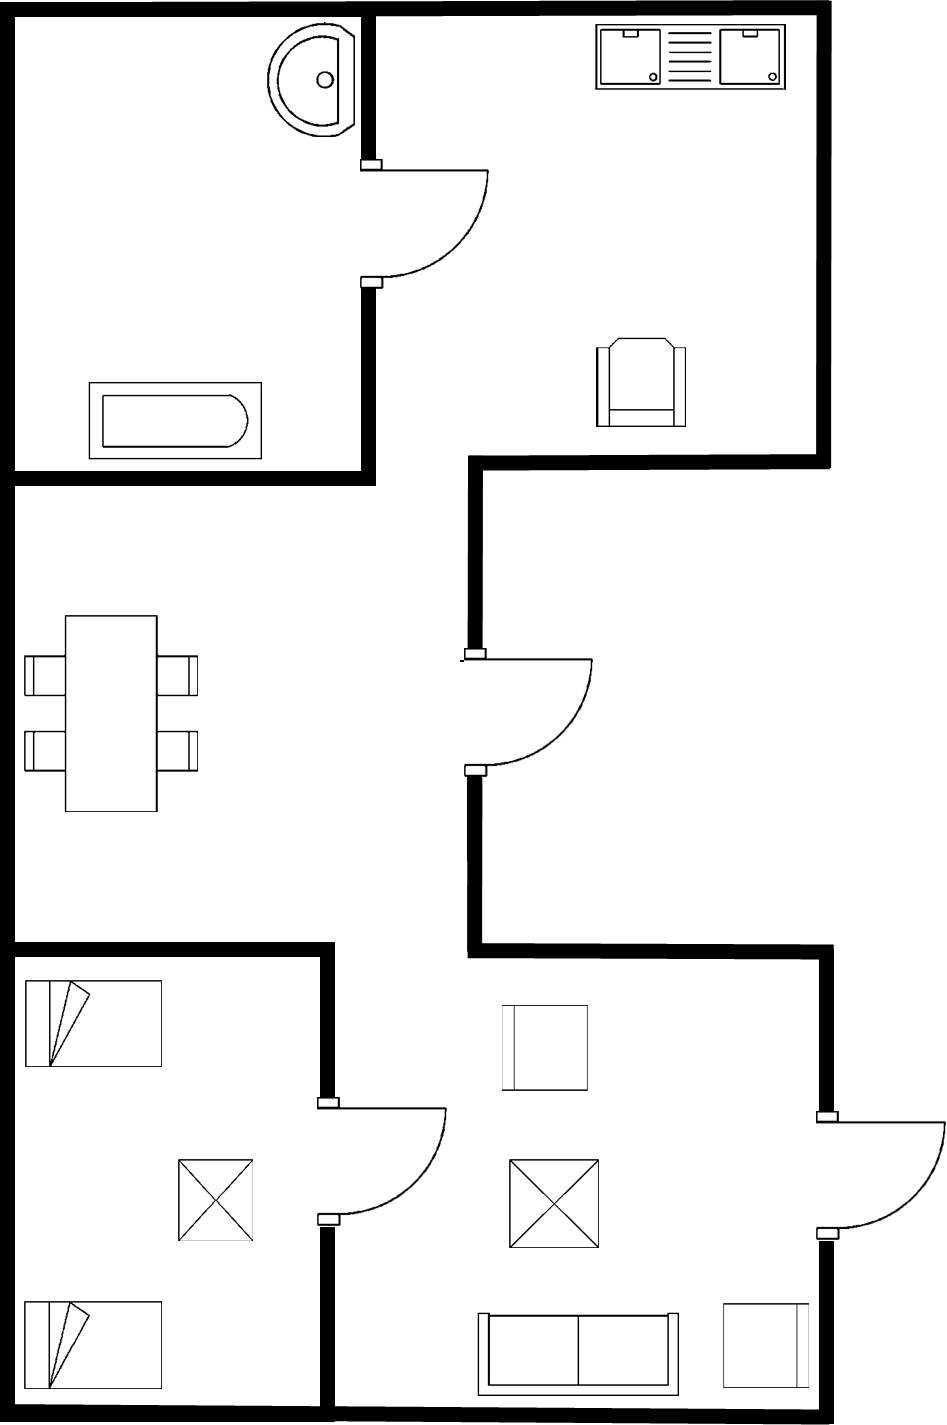armchair: (586, 328, 693, 438)
bed: (18, 1292, 171, 1394), (20, 973, 171, 1073)
coffee_table: (502, 1153, 610, 1259), (170, 1151, 261, 1251)
dining_table: (18, 605, 205, 819)
large_sofa: (468, 1306, 691, 1409)
small_sink: (257, 20, 361, 144)
small_sofa: (492, 995, 596, 1103), (716, 1292, 814, 1401)
tub: (81, 371, 268, 469)
twin_sink: (589, 21, 796, 96)
